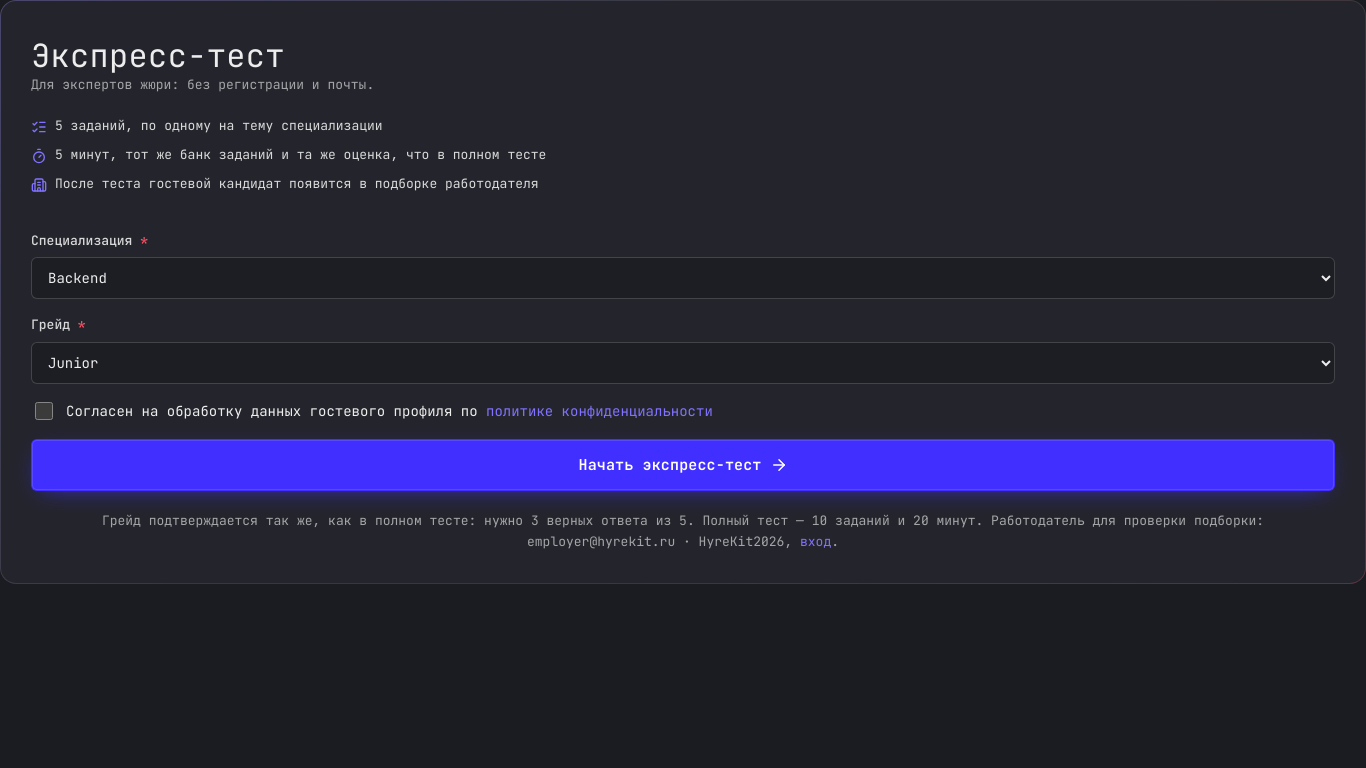
Test: ExpressPage › без согласия гость не создаётся
Click the button "Начать экспресс-тест" at {"x": 683, "y": 465}, box x1=31 y1=439 x2=1335 y2=491
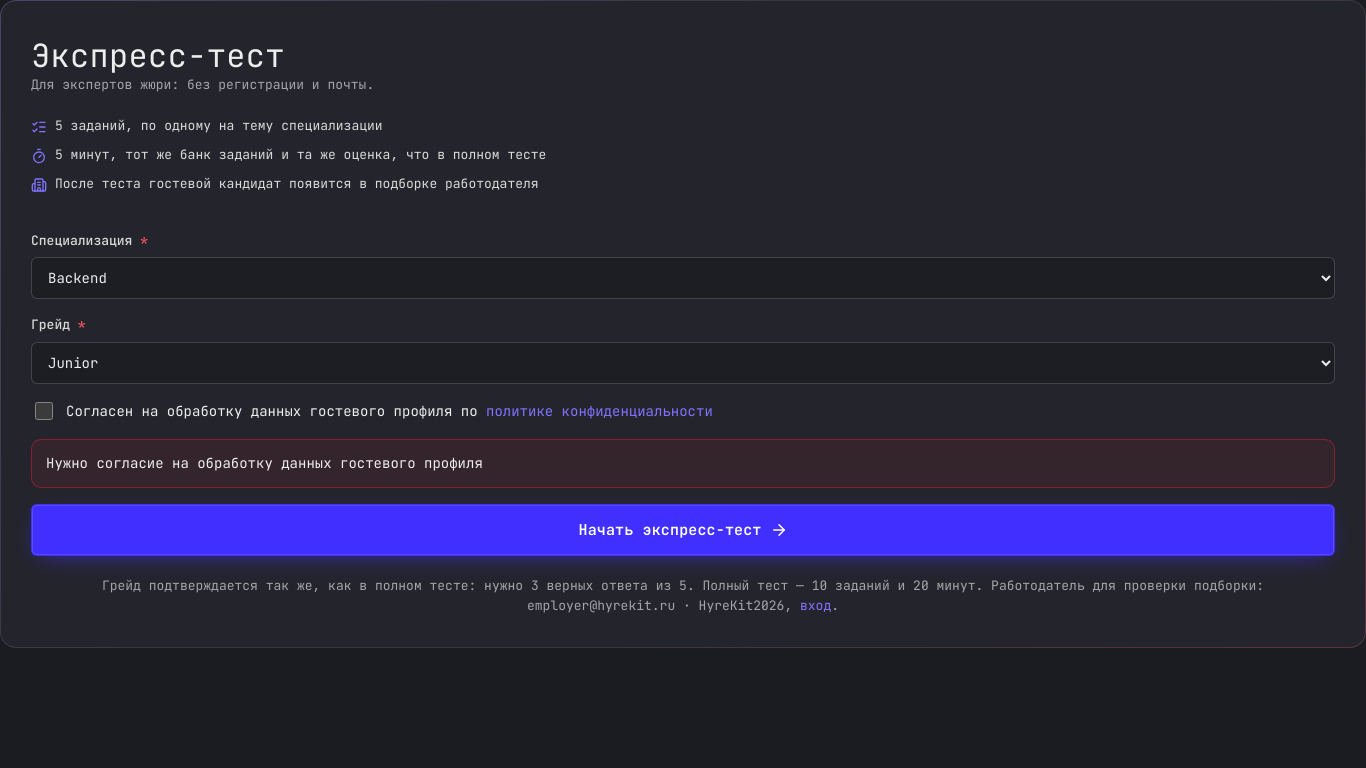
Now the message shows "согласие", box x1=46 y1=454 x2=483 y2=472
